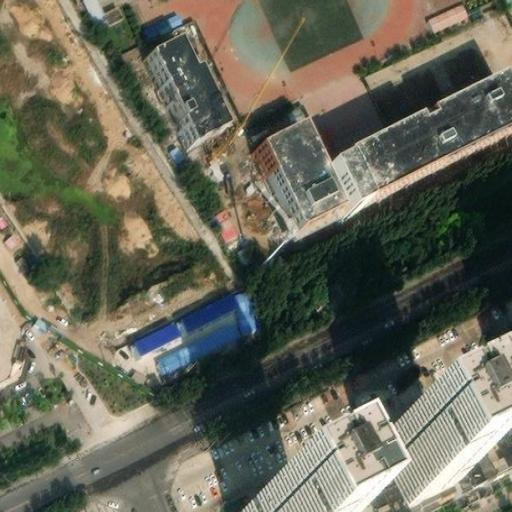building: (299, 372, 512, 512), (315, 85, 500, 207), (256, 125, 338, 230), (143, 33, 222, 139), (378, 410, 466, 500), (122, 23, 186, 141), (156, 317, 241, 365), (246, 477, 316, 512), (183, 286, 236, 324), (134, 313, 182, 348), (427, 0, 469, 29), (235, 287, 257, 331), (0, 303, 12, 377), (141, 10, 173, 35), (100, 0, 126, 20), (171, 138, 189, 158), (167, 6, 185, 23)
